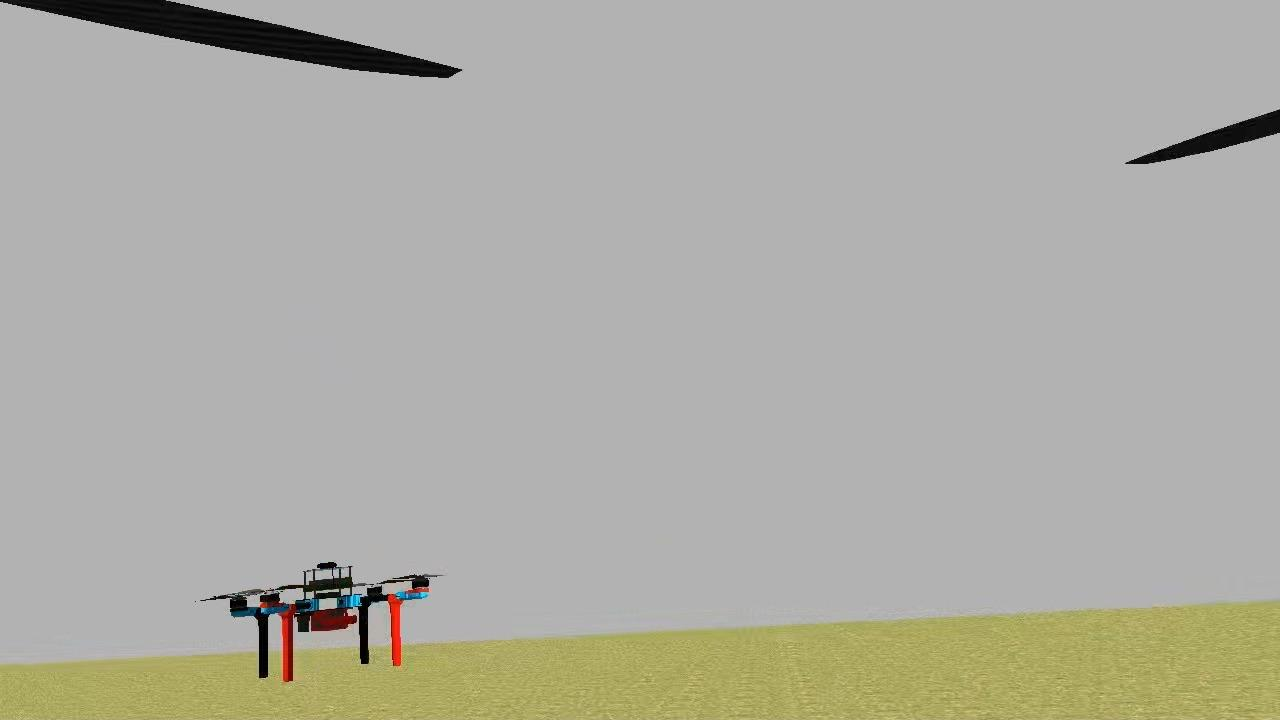UAV: (222, 550, 438, 688)
